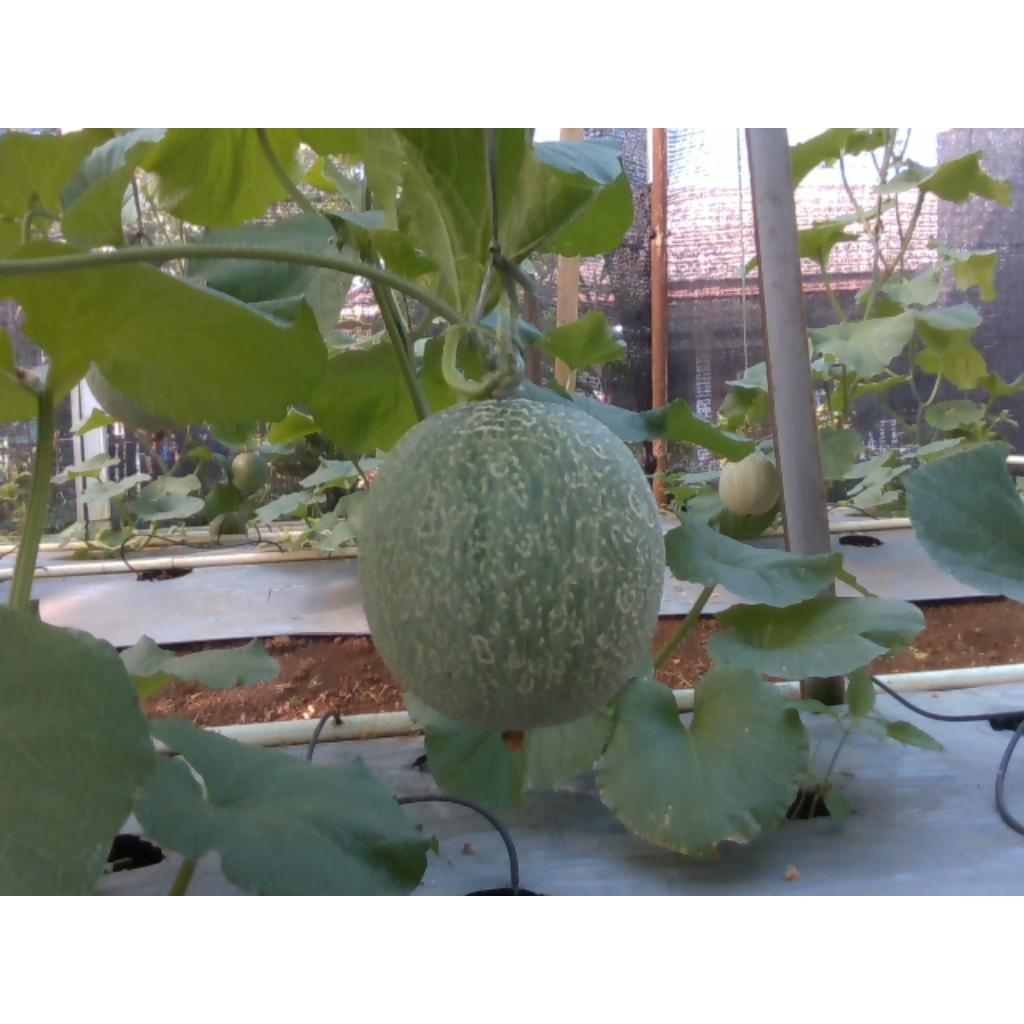melon: (360, 400, 666, 730)
